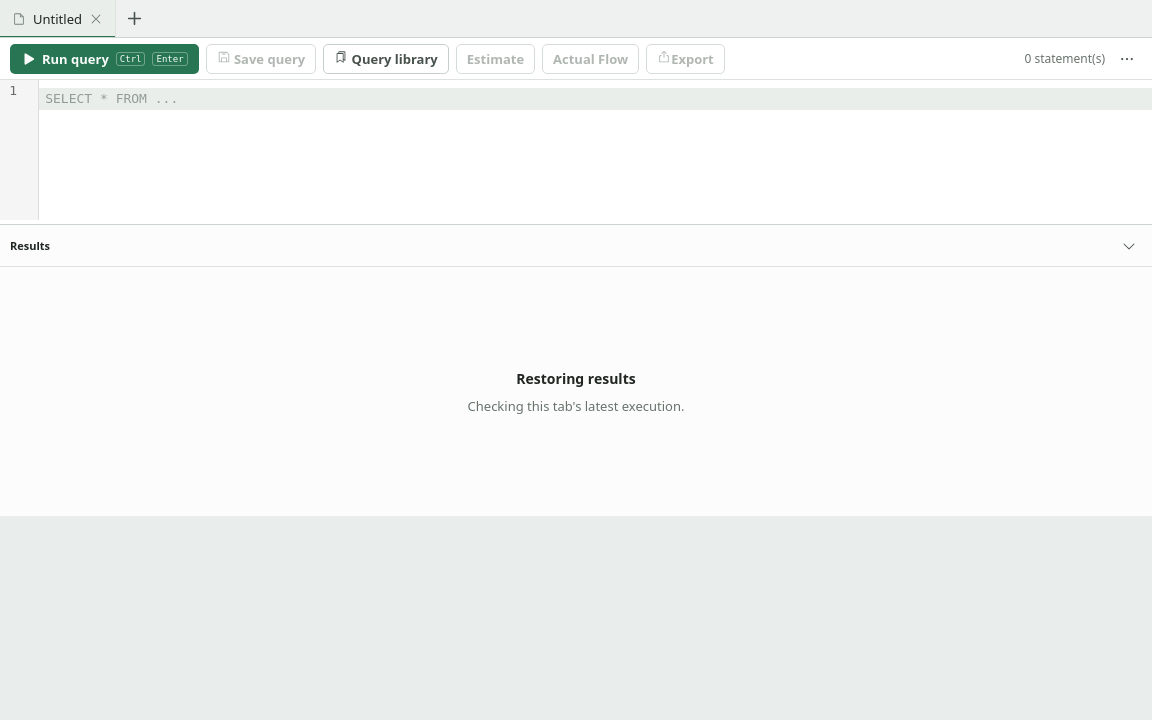
Test case: QueryWorkspace › reopens historical SQL in a new tab without execution
The image size is (1152, 720).
Click the button "Query library" at (386, 58), box [323,44,449,74]
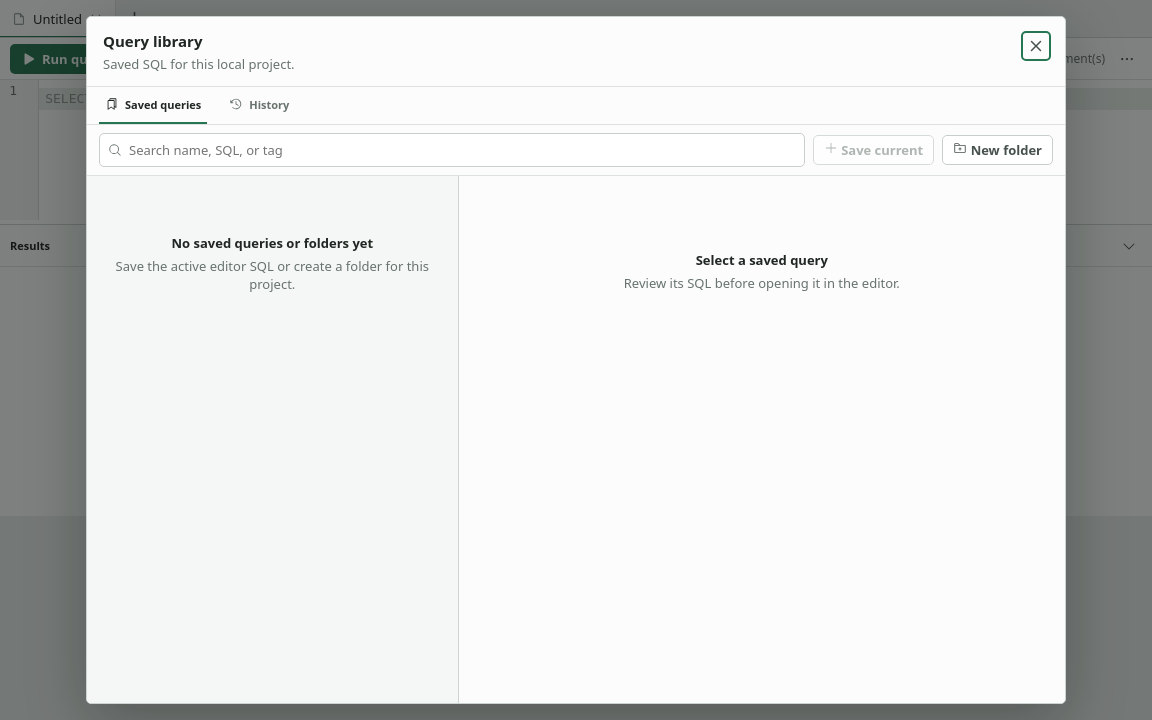
Click the tab "History" at (259, 105), box [223,87,295,124]
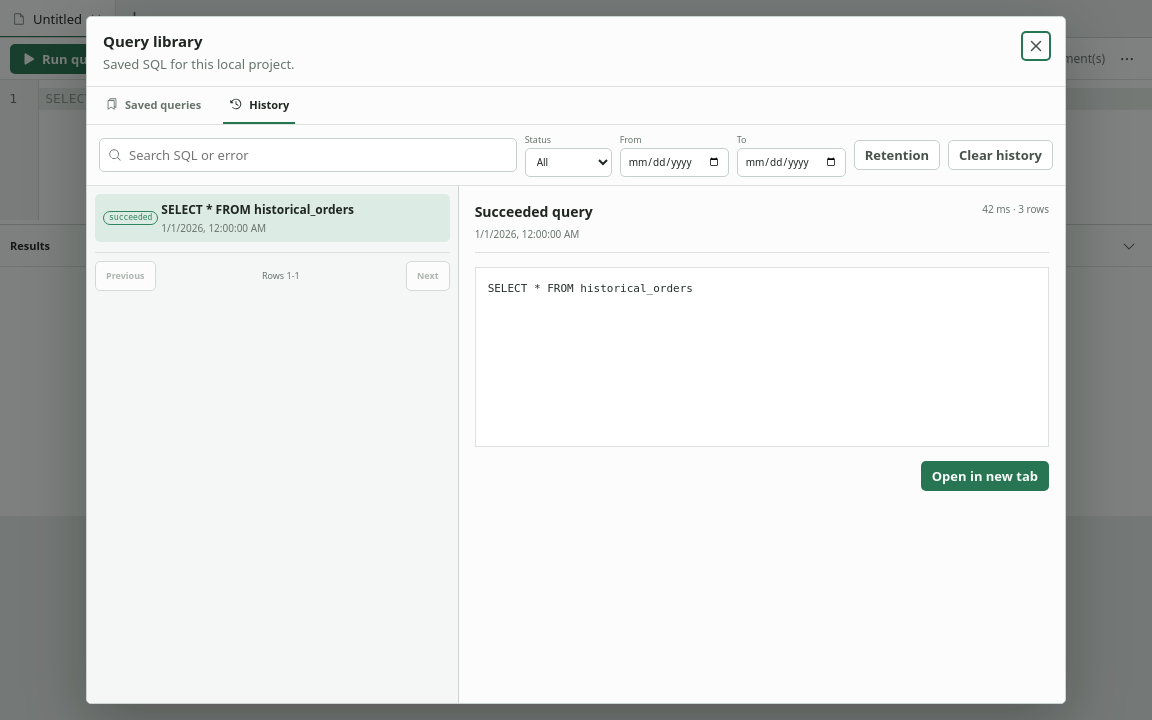
Click the button "Open in new tab" at (985, 476), box [921,461,1049,491]
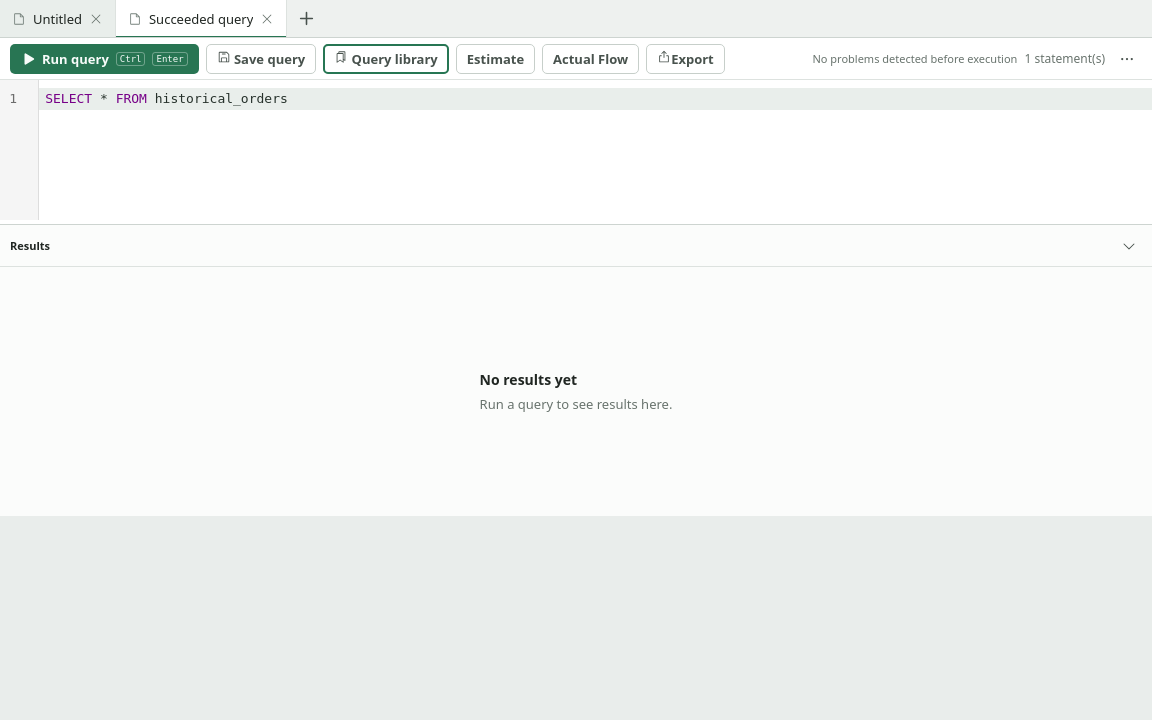
Now the tab "Succeeded query" is shown, box [116,0,287,37]
Now the field with class "cm-content" shows "historical_orders", box [39,88,1151,110]
